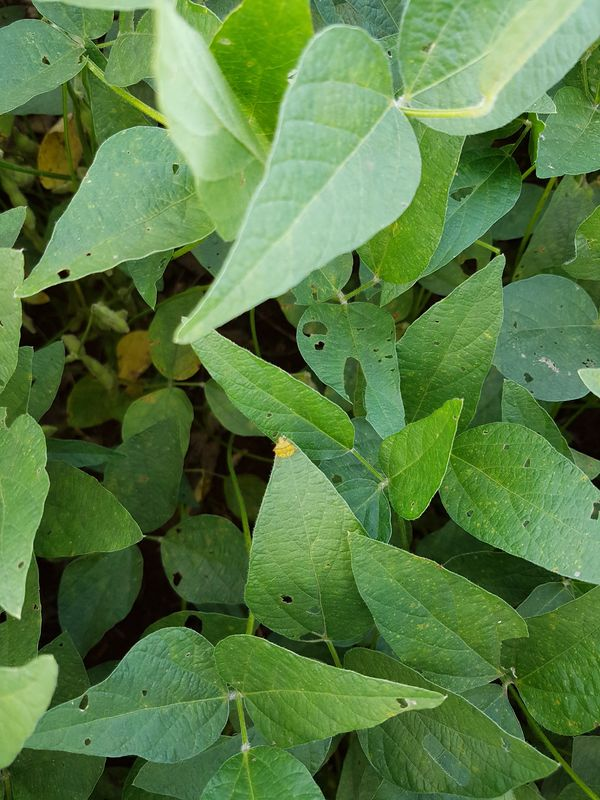Euschistus_heros_ninfa: (267, 431, 301, 466)
